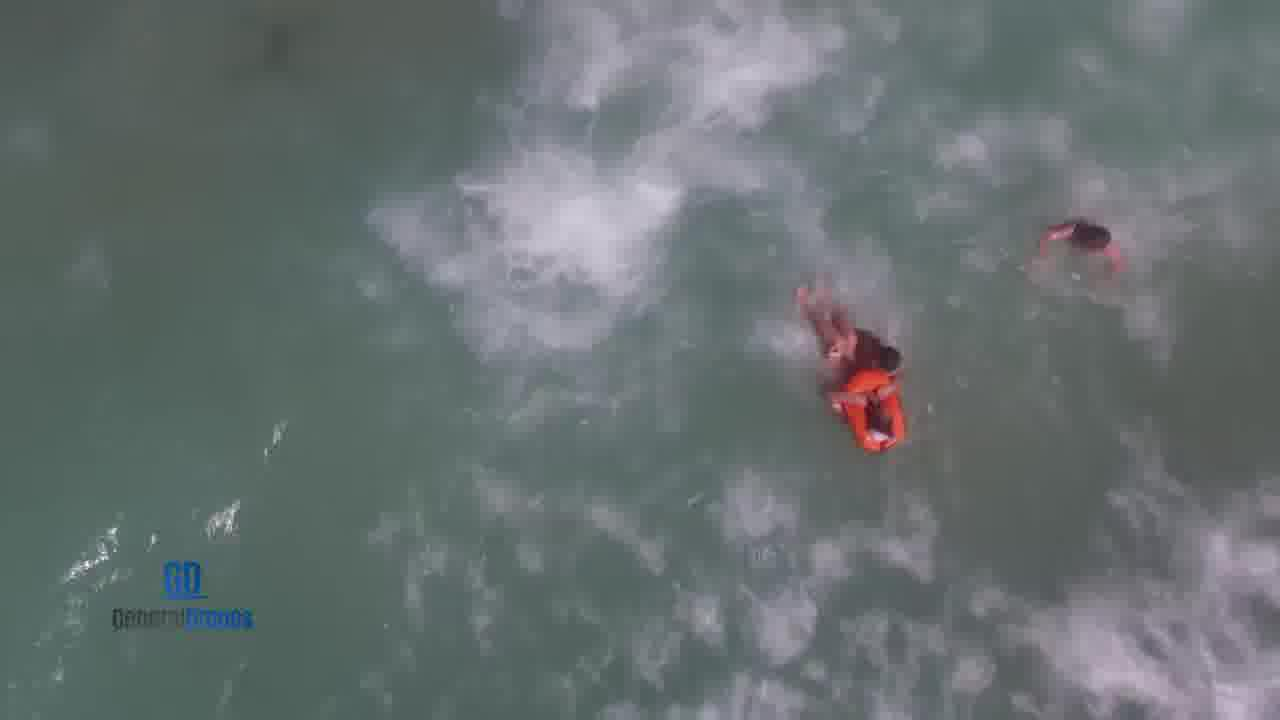swimmer: (1055, 207, 1122, 281), (864, 323, 917, 368), (860, 405, 897, 450)
